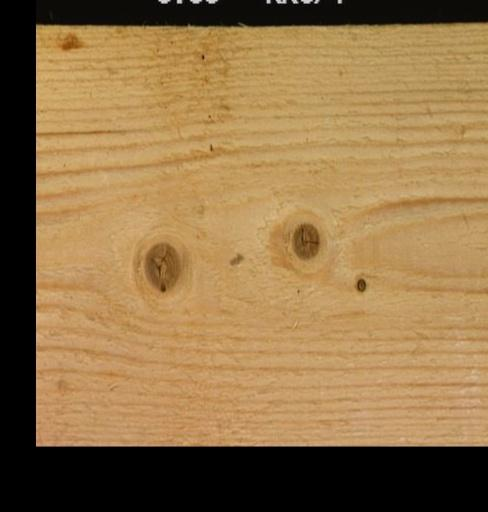dry_knot: (353, 276, 366, 291)
sound_knot: (139, 239, 182, 292), (288, 219, 319, 259)
